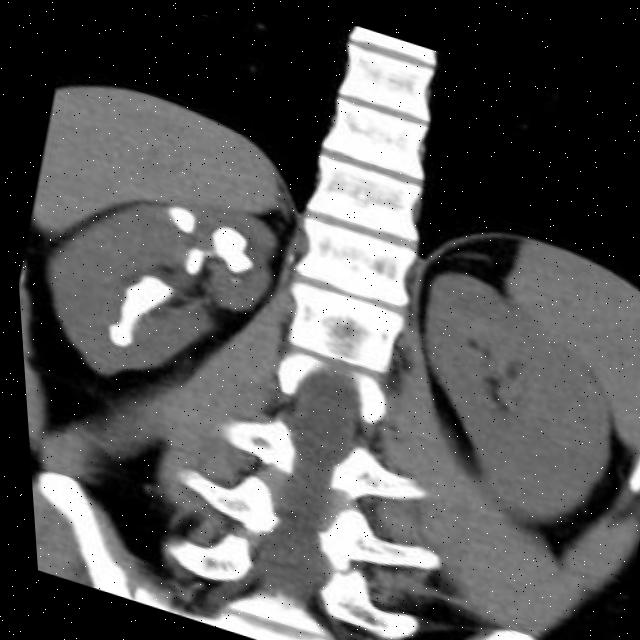Tas_Var: (196, 216, 267, 277), (110, 266, 174, 330), (86, 310, 146, 355), (158, 199, 198, 236), (177, 242, 206, 278), (223, 272, 242, 285)
